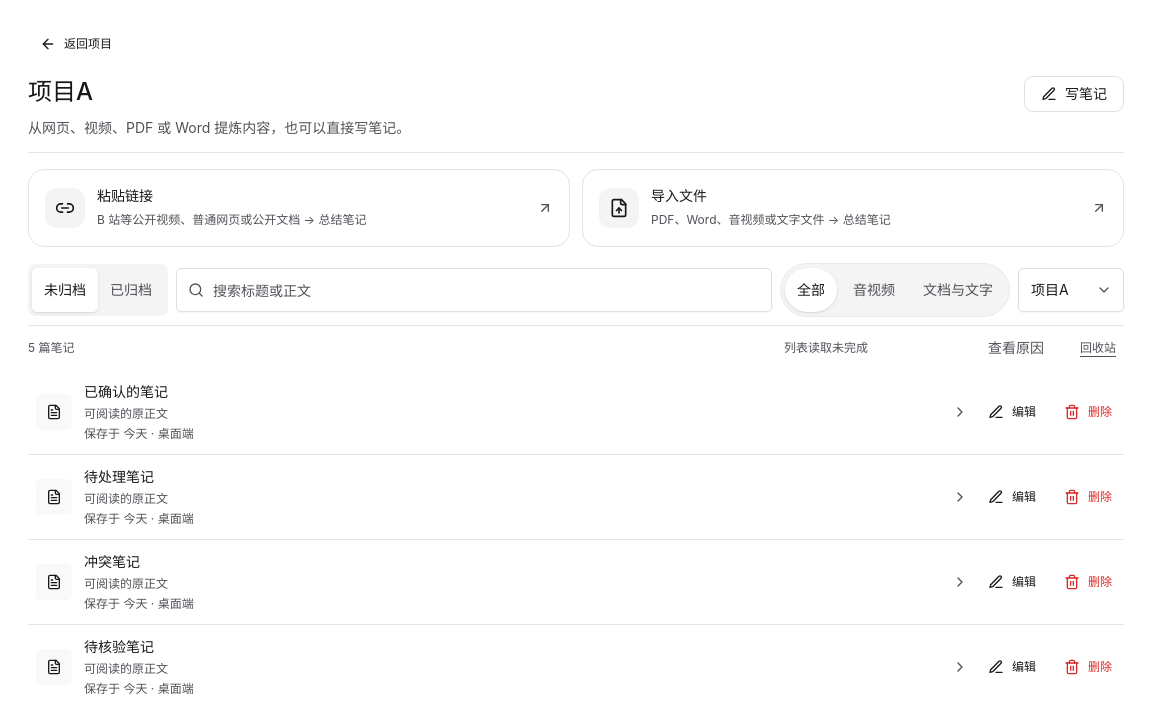
Test case: keeps cached update feedback in the same browsing slot and reveals the complete cause only on request
expect the message reads "列表读取未完成": met, box [784,340,868,355]
expect the text "原同步请求的完整核验原因，保留读取上下文" is not shown: met
Step 1. Click the button "查看原因" → x=1016, y=348, box [972,326,1060,370]
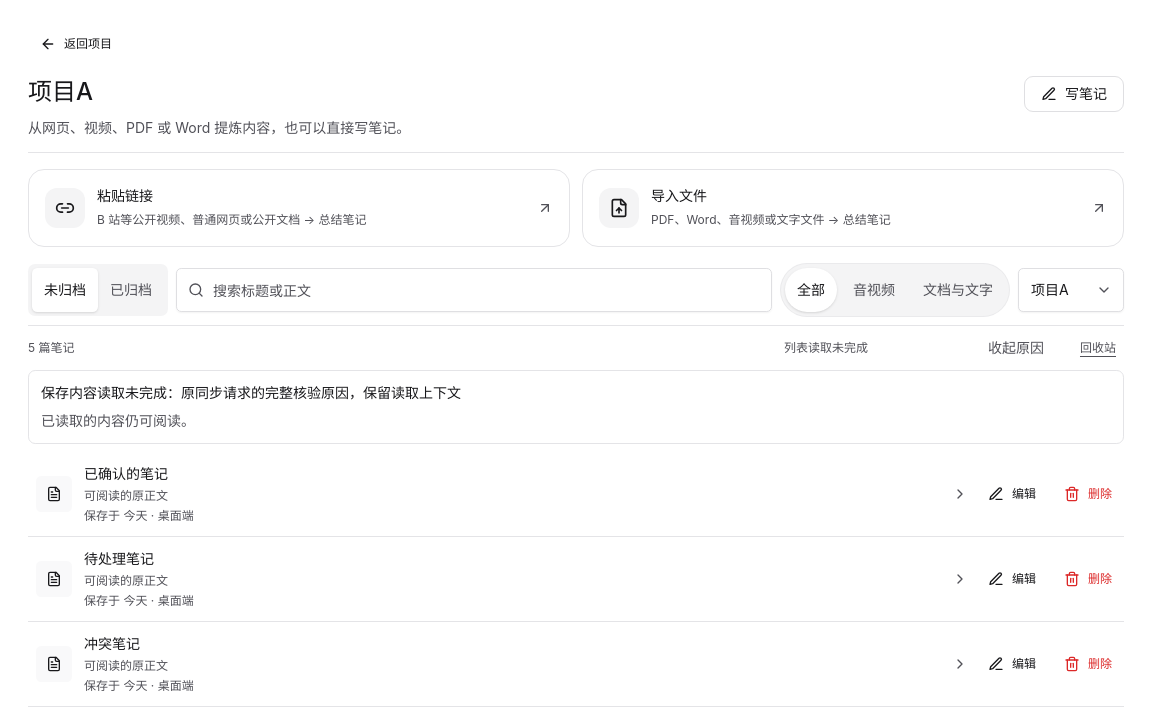
expect the text "原同步请求的完整核验原因，保留读取上下文" is shown: met, box [181,384,461,401]
Step 2. Click the button "收起原因" → x=1016, y=348, box [972,326,1060,370]
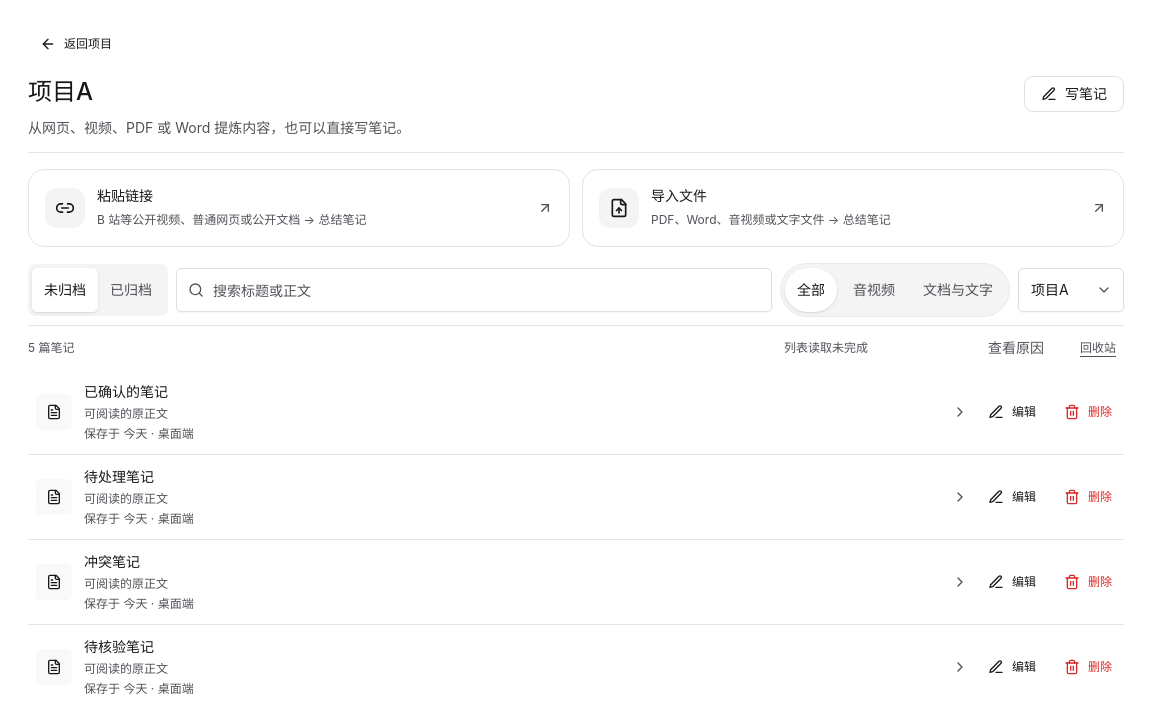
expect the text "原同步请求的完整核验原因，保留读取上下文" is gone: met
